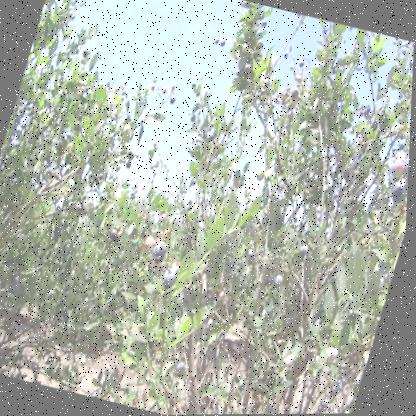intermediate: (387, 146, 411, 189), (143, 234, 164, 262)
mature: (152, 238, 176, 268), (160, 266, 184, 293), (401, 153, 411, 186)
young: (255, 163, 281, 191), (286, 354, 302, 373)
